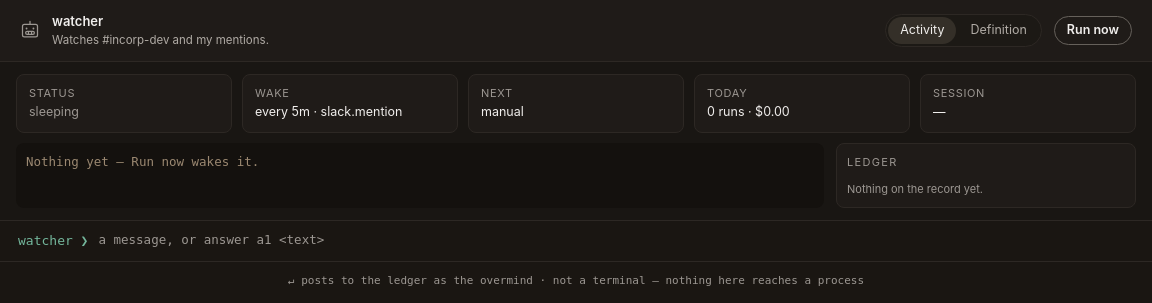
Test: AgentPage — Run now › says why a run refused as paused, on Activity
The width and height of the screenshot is (1152, 303).
Step 1. Click the button "Run now" → [1093, 30], box [1054,16,1132,45]
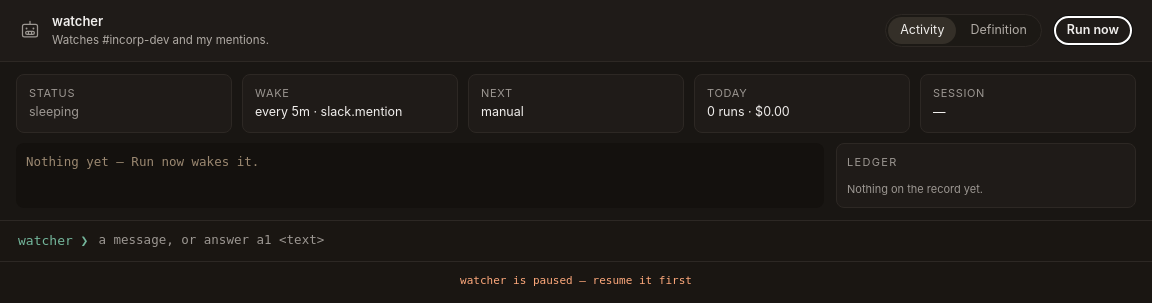
Expected: the message shows "is paused", [460,274,692,286]
